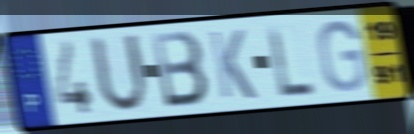4: (55, 39, 95, 118)
B: (149, 28, 211, 111)
G: (315, 18, 369, 95)
K: (207, 28, 259, 102)
L: (264, 22, 318, 101)
U: (87, 31, 151, 116)
